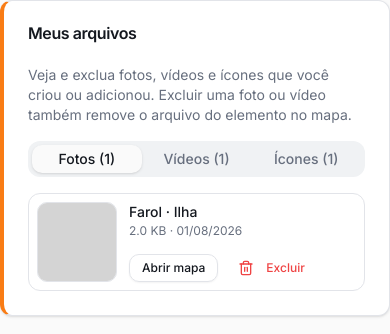
Scenario: ProfileMediaLibrary › lists photos, videos and icons with usage context
Check: the text "Meus arquivos" is shown, box x1=28 y1=23 x2=136 y2=43
Check: the text "Farol · Ilha" is shown, box x1=129 y1=203 x2=198 y2=220
Click the tab "Vídeos (1)" at (197, 159), box x1=142 y1=145 x2=251 y2=173
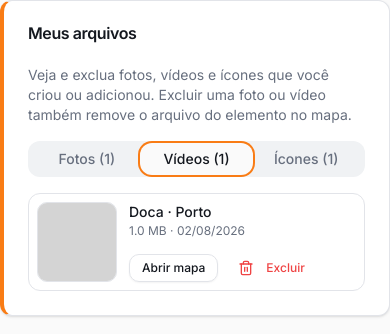
Check: the text "Doca · Porto" is shown, box x1=129 y1=203 x2=212 y2=220
Click the tab "Ícones (1)" at (306, 159), box x1=251 y1=145 x2=361 y2=173
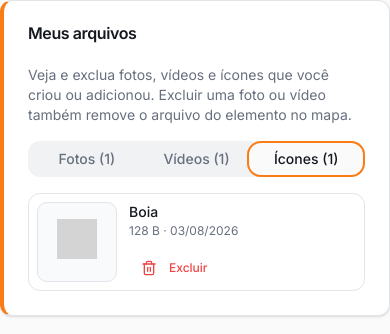
Check: the text "Boia" is shown, box x1=129 y1=203 x2=158 y2=220
